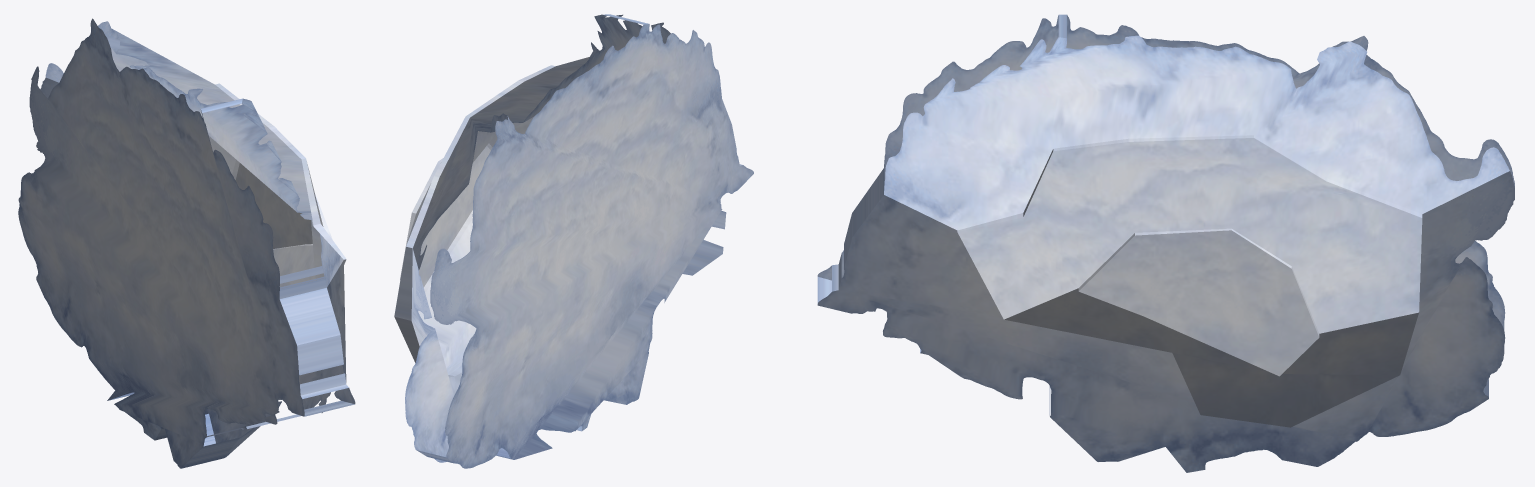
The model's file is cloud.fbx.
3 views of the same model, side by side, from view 1: azimuth 30°, elevation 25°; view 2: azimuth 150°, elevation 25°; view 3: azimuth 270°, elevation 25° (orthographic). The views are drawn at different scales.
Visible parts, largest first — view 1: cloud; view 2: cloud; view 3: cloud.
Part boxes in pixels (box(x1,y1,x2,y2)): cloud: box(18, 18, 355, 468); cloud: box(394, 14, 753, 468); cloud: box(817, 14, 1514, 472).
Bounding box in the file's own units: 36.93 × 83.57 × 126.
Materials: 1 (1 with a texture image).
